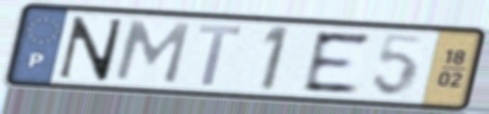1: (260, 25, 290, 94)
5: (369, 31, 428, 100)
E: (301, 30, 374, 94)
M: (110, 18, 194, 86)
N: (54, 14, 127, 83)
T: (195, 22, 246, 88)
